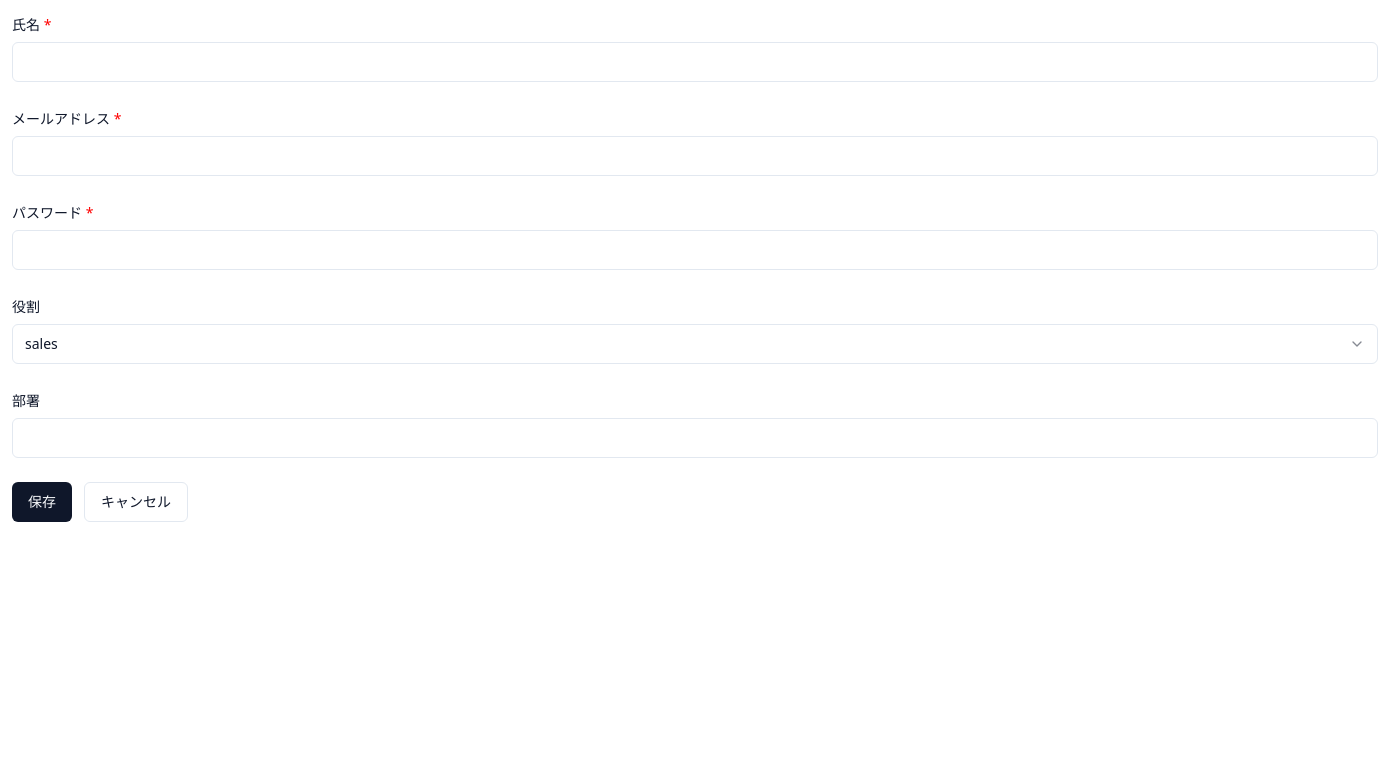
Test case: UserForm – 新規登録モード (mode="create") › バリデーション › メールアドレスが空の場合にエラーメッセージを表示する
The image size is (1390, 780).
Type "田中 花子" into the field labelled "氏名 *" at [695, 62], box x1=12 y1=42 x2=1378 y2=82
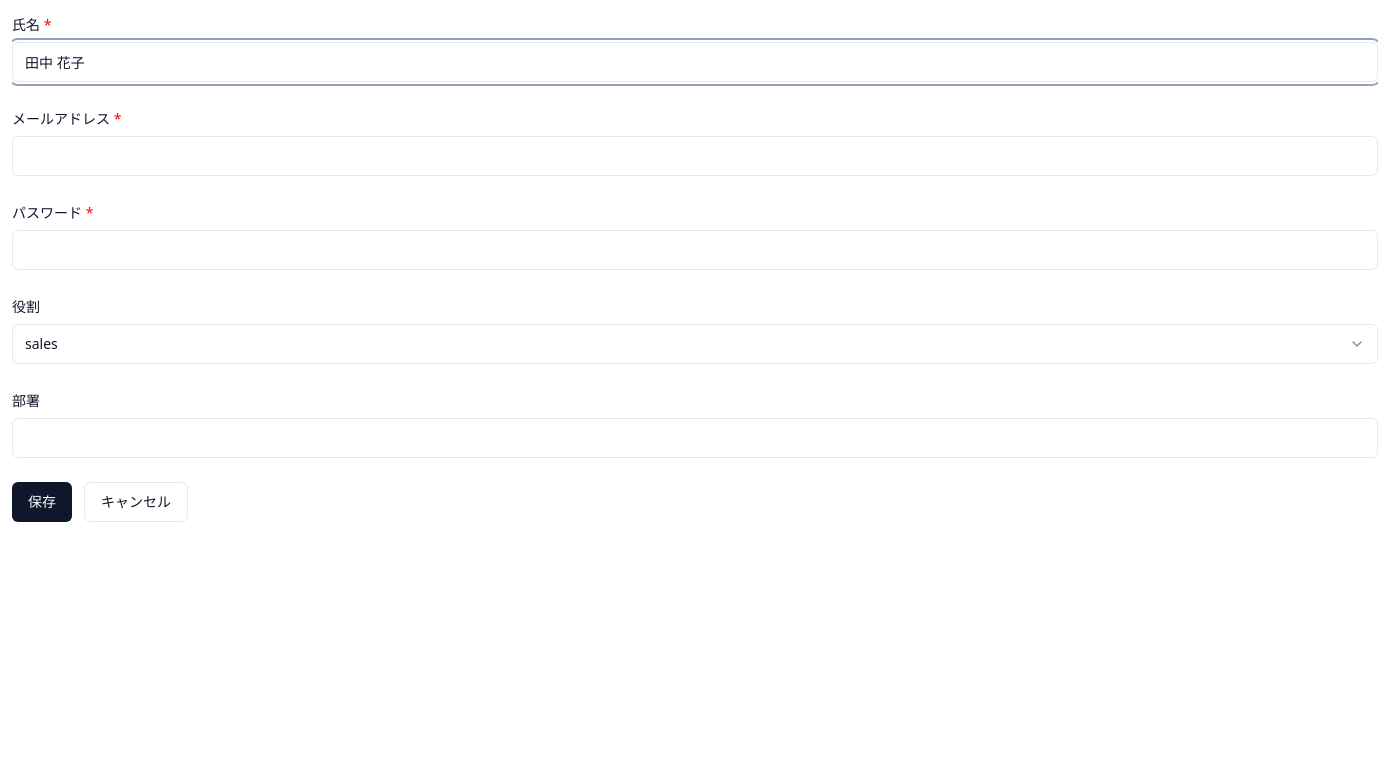
Type "password123" into the password field labelled "パスワード *" at [695, 250], box x1=12 y1=230 x2=1378 y2=270
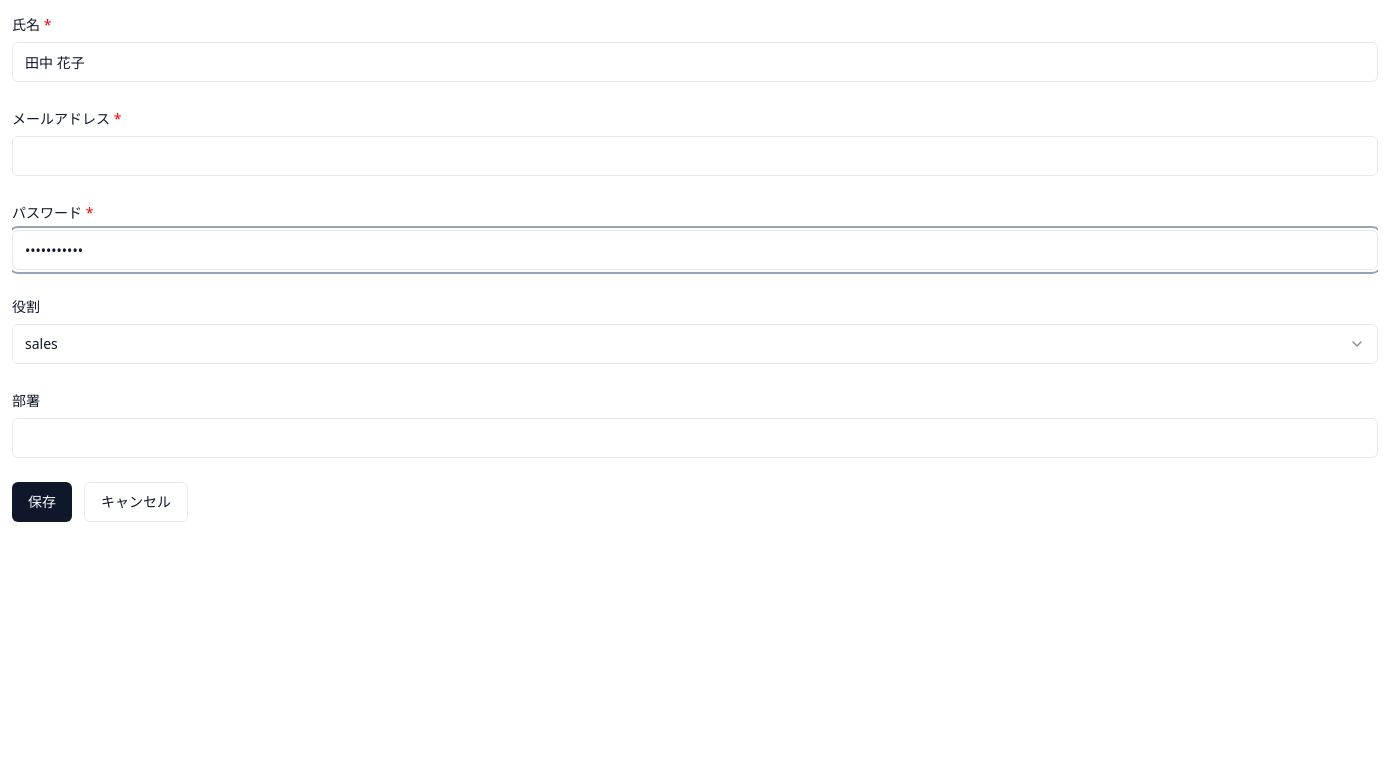
Click the button "保存" at [42, 502], box x1=12 y1=482 x2=72 y2=522
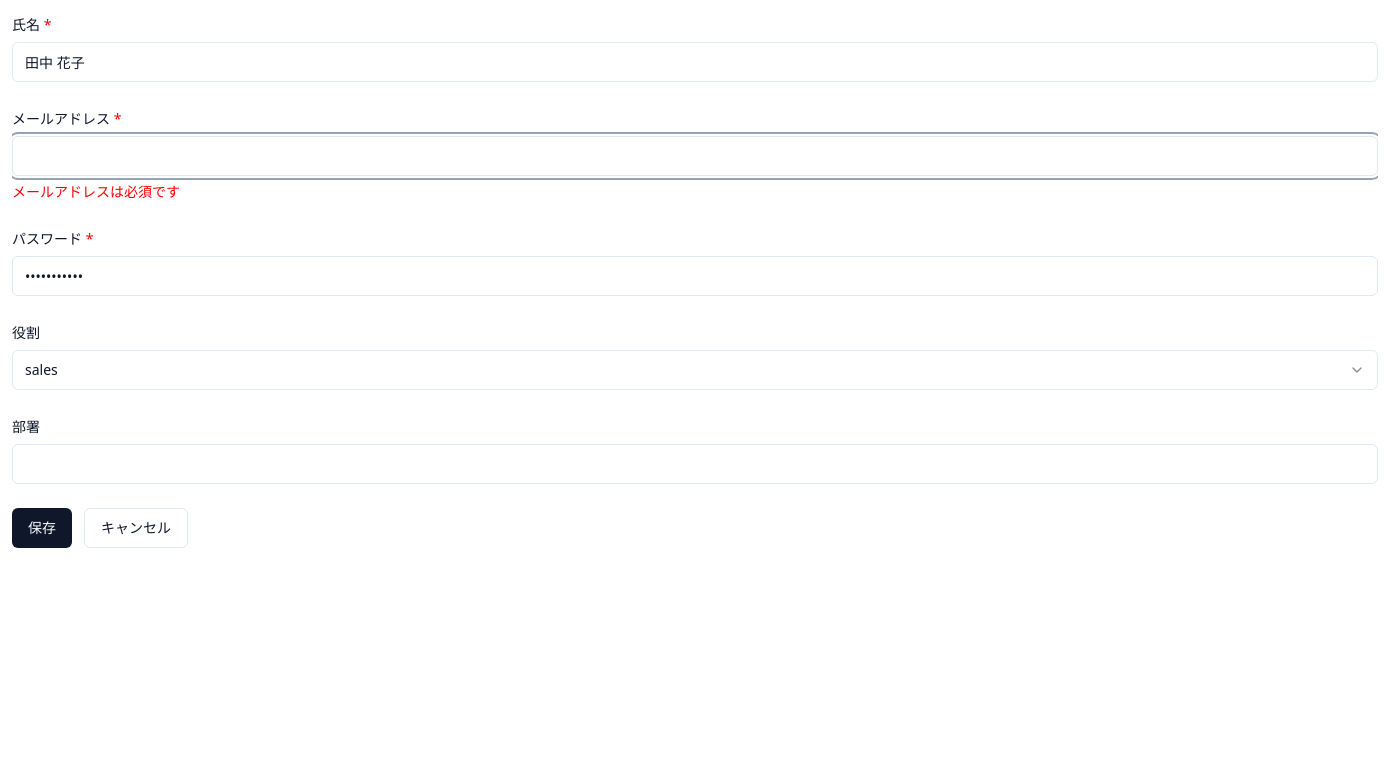
Now the text "メールアドレスは必須です" is shown, box x1=12 y1=182 x2=180 y2=201
